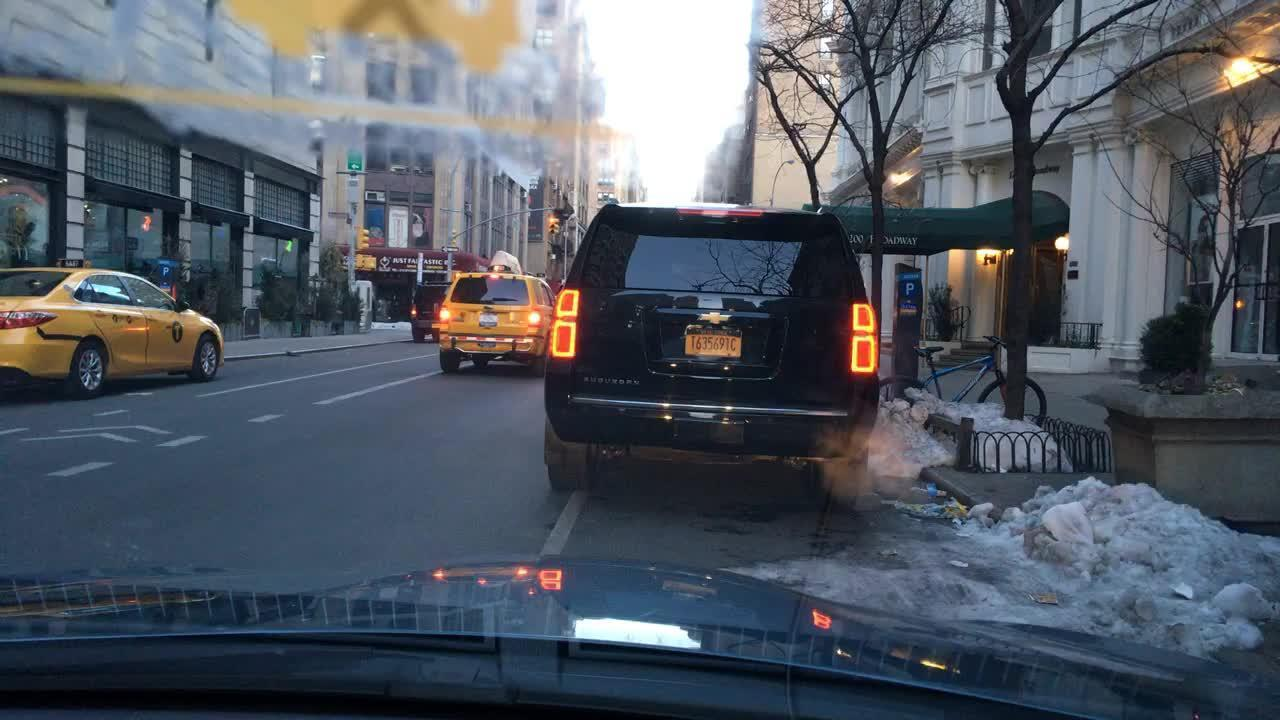chevrolet: (679, 303, 746, 331)
